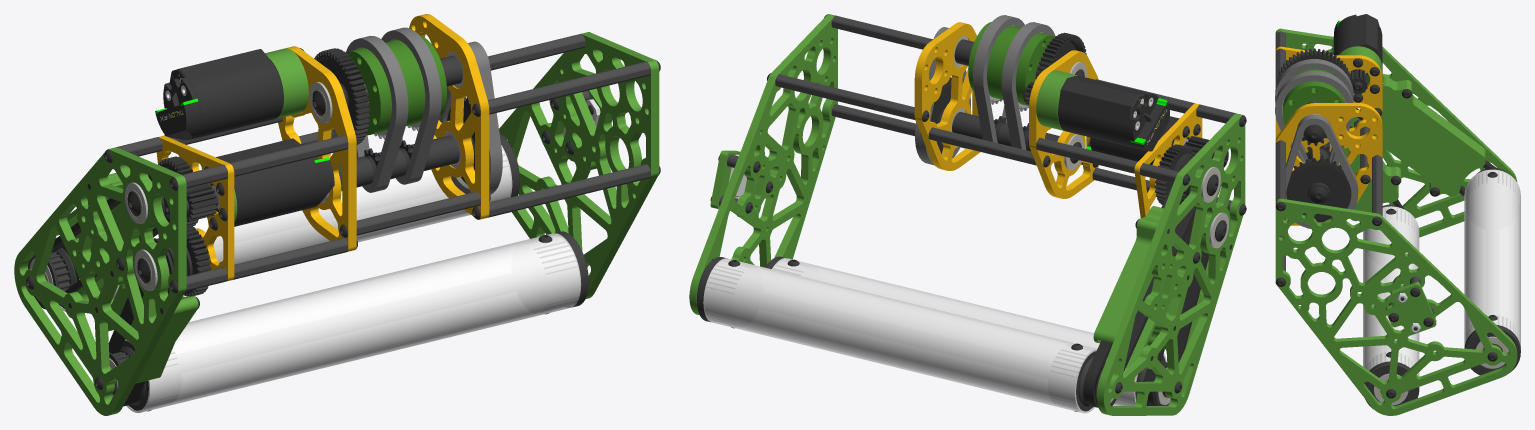
The picture shows the model from 3 angles, left to right: view 1: azimuth 30°, elevation 25°; view 2: azimuth 150°, elevation 25°; view 3: azimuth 270°, elevation 25°; orthographic projection. The views are drawn at different scales.
Parts seen in each view (by area): view 1: O-IntakeA04_0250_6061AL_2_2026 (×2), Deadaxle Tube_13_in (×2), Kraken X44 Brushless Motor (×2), O-IntakeA02_0250_6061AL_2_2026 (×2), 42L #25 Chain (×3), 4.875 in. Rounded Hex Shaft (×3), 3.438 in. Rounded Hex Shaft (×2), Belt Cover, O-IntakeA03_0187_6061AL_1_2026, 50t Pocketed Steel Spur Gear (20 DP, 1/2" Hex Bore), Outer Sprocket Spacer, 3.75 in. Rounded Hex Shaft (+9 smaller); view 2: O-IntakeA04_0250_6061AL_2_2026 (×2), Deadaxle Tube_13_in (×2), O-IntakeA02_0250_6061AL_2_2026 (×2), Kraken X44 Brushless Motor (×2), 42L #25 Chain (×3), 4.875 in. Rounded Hex Shaft (×3), Belt Cover, 3.438 in. Rounded Hex Shaft (×2), O-IntakeA03_0187_6061AL_1_2026, 95T 5M 9mm Wide Belt, 3.75 in. Rounded Hex Shaft, Pivot Kraken Spacer (+10 smaller); view 3: O-IntakeA04_0250_6061AL_2_2026 (×2), Deadaxle Tube_13_in (×2), Belt Cover, O-IntakeA02_0250_6061AL_2_2026 (×2), 42L #25 Chain (×3), 32t Aluminum Sprocket (#25, 1/2" Hex Bore, Double Hub), Kraken X44 Brushless Motor, O-IntakeA05_0250_6061AL_1_2026, Roller Endcap_None_24_Tooth_Heatset (×2), Outer Sprocket Spacer, 4.875 in. Rounded Hex Shaft (×2), 50t Pocketed Steel Spur Gear (20 DP, 1/2" Hex Bore) (+4 smaller).
Boxes of the visible parts, left/top/right/bottom form: O-IntakeA04_0250_6061AL_2_2026 (×2): left=14, top=32, right=659, bottom=415; Deadaxle Tube_13_in (×2): left=55, top=145, right=581, bottom=412; Kraken X44 Brushless Motor (×2): left=155, top=49, right=334, bottom=226; O-IntakeA02_0250_6061AL_2_2026 (×2): left=278, top=14, right=489, bottom=251; 42L #25 Chain (×3): left=346, top=27, right=502, bottom=194; 4.875 in. Rounded Hex Shaft (×3): left=487, top=33, right=650, bottom=217; 3.438 in. Rounded Hex Shaft (×2): left=230, top=135, right=348, bottom=279; Belt Cover: left=56, top=173, right=198, bottom=383; O-IntakeA03_0187_6061AL_1_2026: left=156, top=135, right=234, bottom=280; 50t Pocketed Steel Spur Gear (20 DP, 1/2" Hex Bore): left=314, top=48, right=369, bottom=144; Outer Sprocket Spacer: left=346, top=48, right=391, bottom=135; 3.75 in. Rounded Hex Shaft: left=356, top=191, right=480, bottom=235; O-IntakeA04_0250_6061AL_2_2026 (×2): left=689, top=14, right=1245, bottom=415; Deadaxle Tube_13_in (×2): left=703, top=258, right=1166, bottom=413; O-IntakeA02_0250_6061AL_2_2026 (×2): left=914, top=22, right=1098, bottom=198; Kraken X44 Brushless Motor (×2): left=1058, top=75, right=1188, bottom=164; 42L #25 Chain (×3): left=915, top=15, right=1055, bottom=165; 4.875 in. Rounded Hex Shaft (×3): left=775, top=15, right=965, bottom=148; Belt Cover: left=1093, top=206, right=1208, bottom=368; 3.438 in. Rounded Hex Shaft (×2): left=1036, top=138, right=1149, bottom=192; O-IntakeA03_0187_6061AL_1_2026: left=1134, top=103, right=1202, bottom=218; 95T 5M 9mm Wide Belt: left=1083, top=155, right=1195, bottom=407; 3.75 in. Rounded Hex Shaft: left=928, top=127, right=1036, bottom=165; Pivot Kraken Spacer: left=1036, top=70, right=1077, bottom=130; O-IntakeA04_0250_6061AL_2_2026 (×2): left=1275, top=28, right=1517, bottom=415; Deadaxle Tube_13_in (×2): left=1363, top=169, right=1520, bottom=376; Belt Cover: left=1343, top=77, right=1485, bottom=221; O-IntakeA02_0250_6061AL_2_2026 (×2): left=1275, top=55, right=1382, bottom=225; 42L #25 Chain (×3): left=1275, top=59, right=1358, bottom=228; 32t Aluminum Sprocket (#25, 1/2" Hex Bore, Double Hub): left=1286, top=157, right=1351, bottom=222; Kraken X44 Brushless Motor: left=1333, top=14, right=1382, bottom=74; O-IntakeA05_0250_6061AL_1_2026: left=1386, top=282, right=1436, bottom=335; Roller Endcap_None_24_Tooth_Heatset (×2): left=1364, top=315, right=1520, bottom=408; Outer Sprocket Spacer: left=1282, top=81, right=1344, bottom=124; 4.875 in. Rounded Hex Shaft (×2): left=1275, top=140, right=1382, bottom=215; 50t Pocketed Steel Spur Gear (20 DP, 1/2" Hex Bore): left=1277, top=48, right=1350, bottom=81.
Size of the model in its own units: 0.402 by 0.2665 by 0.2213.
